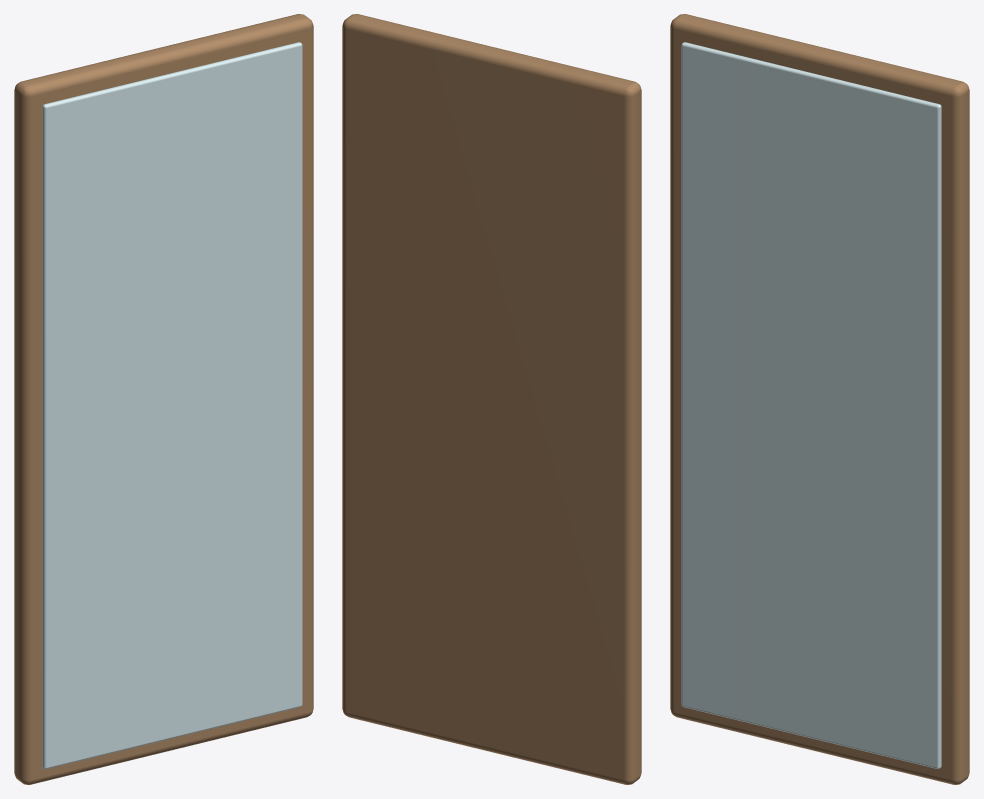
The model's file is atelier-full-length-mirror.glb.
The picture shows the model from 3 angles, left to right: view 1: azimuth 30°, elevation 25°; view 2: azimuth 150°, elevation 25°; view 3: azimuth 330°, elevation 25°; orthographic projection.
Parts seen in each view (by area): view 1: glass.005, legs.126; view 2: legs.126; view 3: glass.005, legs.126.
Boxes of the visible parts, x1,y1,x2,y2 form: glass.005: (42, 42, 302, 768); legs.126: (14, 14, 313, 784); legs.126: (342, 14, 641, 784); glass.005: (681, 42, 941, 768); legs.126: (670, 14, 969, 784).
Size of the model in its own units: 0.7 by 1.6 by 0.0695.
